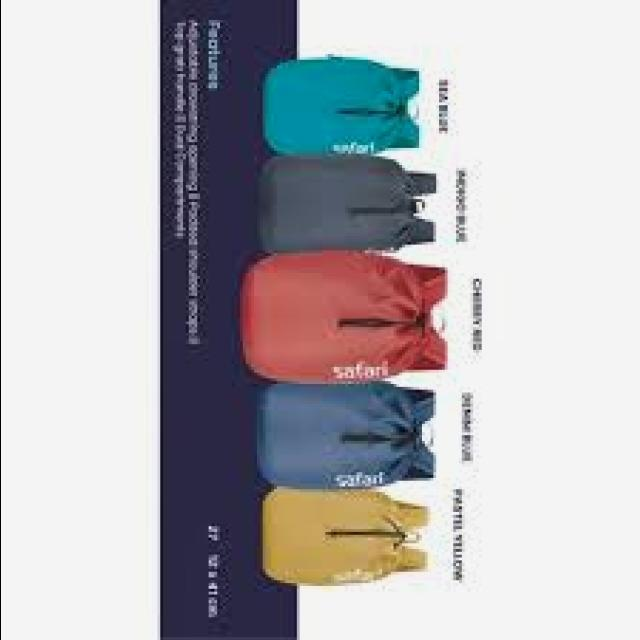backpack: (240, 249, 450, 383), (263, 55, 423, 155)
